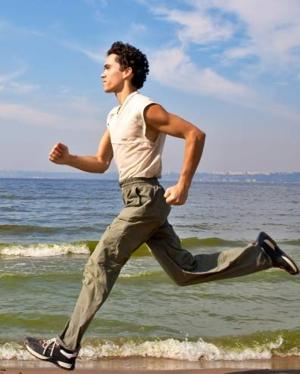person: (23, 40, 299, 372)
